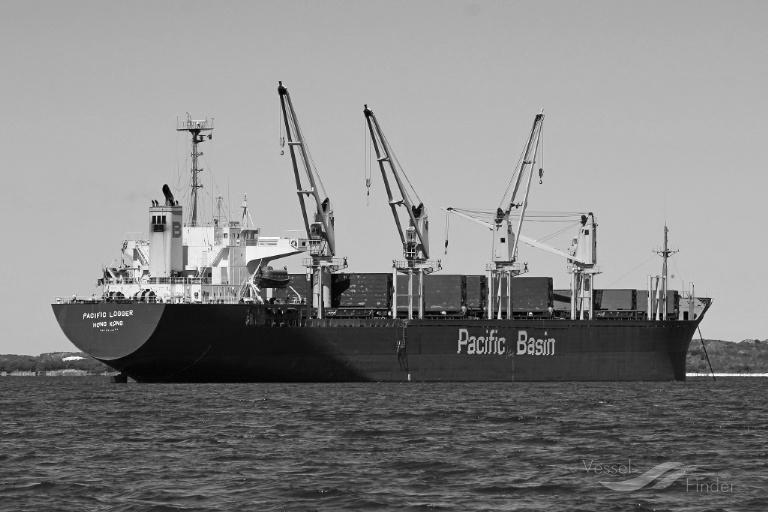OCR: (450, 322, 568, 359), (76, 310, 142, 340)
